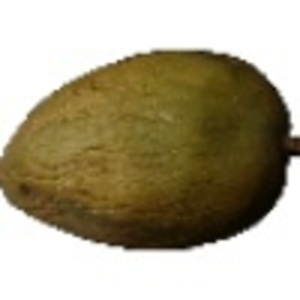mamão: (3, 42, 292, 255)
